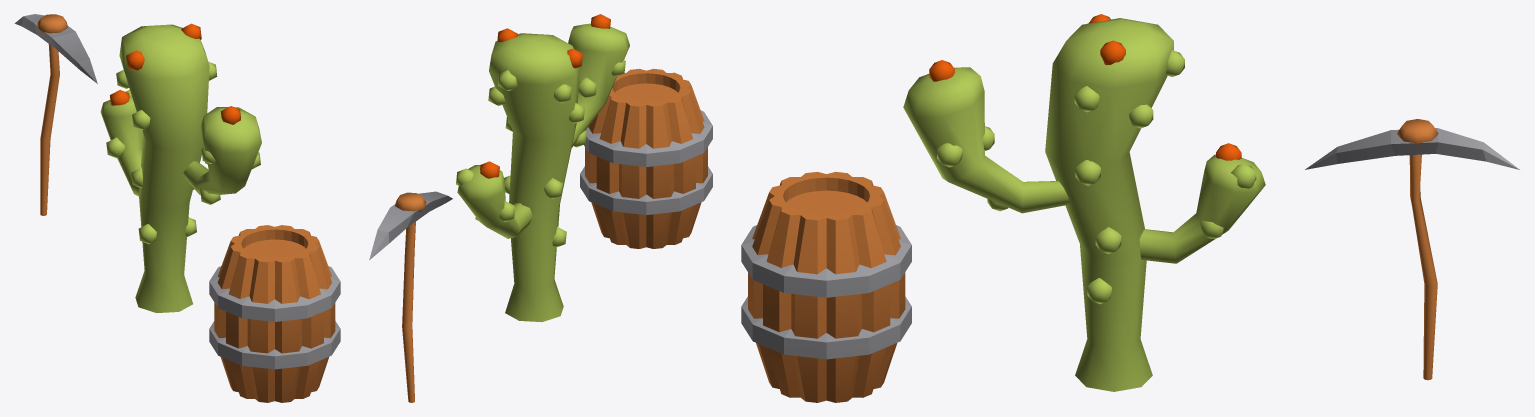
3 views of the same model, side by side, from view 1: azimuth 30°, elevation 25°; view 2: azimuth 150°, elevation 25°; view 3: azimuth 270°, elevation 25° (orthographic). The views are drawn at different scales.
Parts seen in each view (by area): view 1: 仙人掌, 木桶, 矿工稿; view 2: 仙人掌, 木桶, 矿工稿; view 3: 仙人掌, 木桶, 矿工稿.
Part boxes in pixels (left/top/right/bottom): 仙人掌: left=100, top=23, right=261, bottom=312; 木桶: left=209, top=225, right=340, bottom=402; 矿工稿: left=14, top=14, right=97, bottom=215; 仙人掌: left=456, top=14, right=629, bottom=321; 木桶: left=580, top=68, right=712, bottom=248; 矿工稿: left=369, top=191, right=452, bottom=402; 仙人掌: left=903, top=14, right=1265, bottom=391; 木桶: left=741, top=171, right=911, bottom=402; 矿工稿: left=1305, top=119, right=1519, bottom=380.
Size of the model in its own units: 1.13 by 2.6 by 5.17.
Materials: 1 (1 with a texture image).
